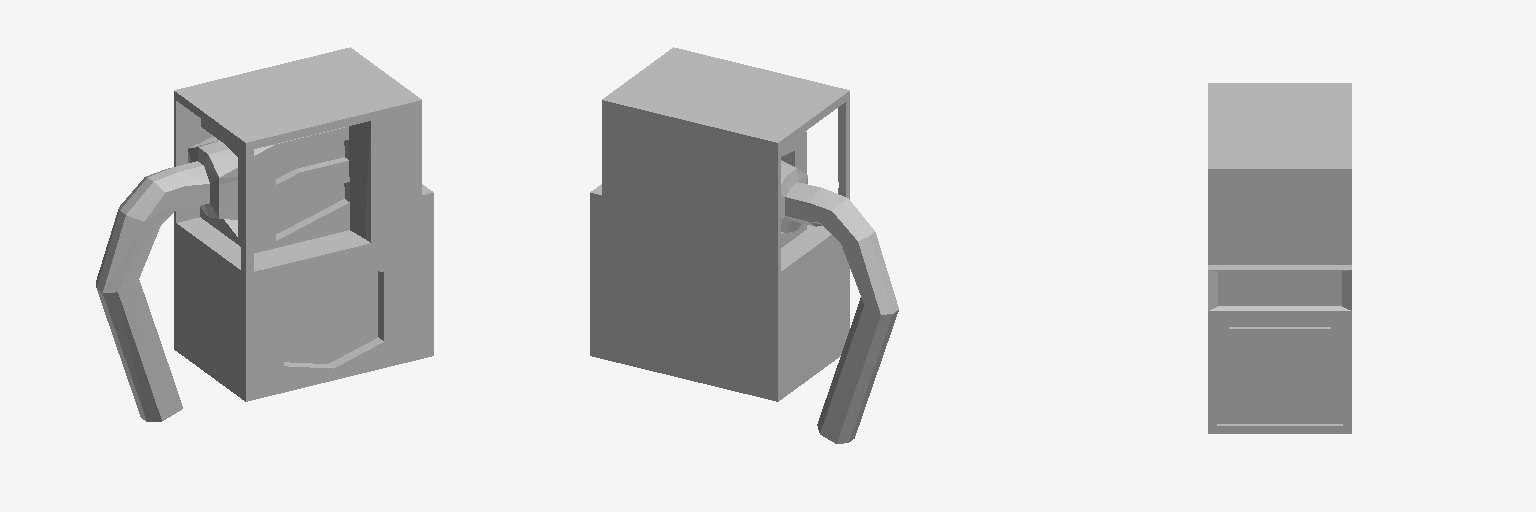
File: computer.obj
3 renders of one model, left to right at view 1: azimuth 30°, elevation 25°; view 2: azimuth 150°, elevation 25°; view 3: azimuth 270°, elevation 25°, orthographic.
Parts seen in each view (by area): view 1: computer; view 2: computer; view 3: computer.
Part boxes in pixels (bbox=[...]): computer: bbox=[96, 47, 433, 421]; computer: bbox=[590, 47, 898, 443]; computer: bbox=[1208, 83, 1351, 433].
Bounding box in the file's own units: 2.07 × 2.09 × 0.9063.